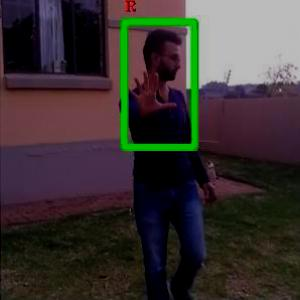follow_hand: (125, 65, 178, 118)
